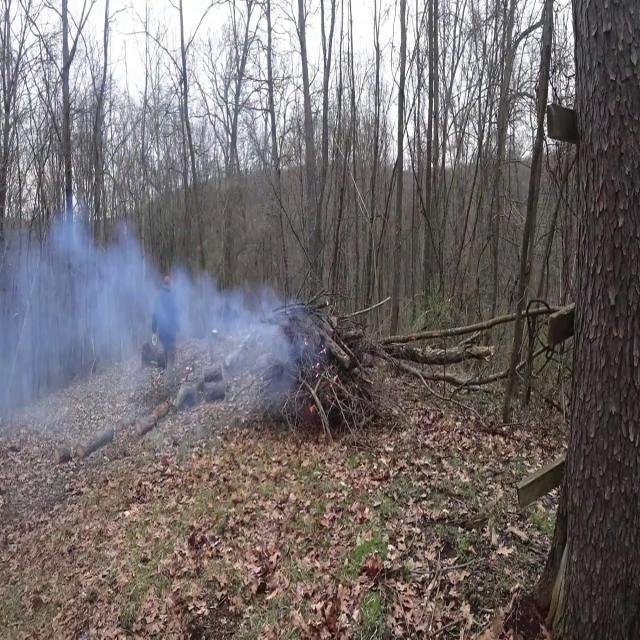Smoke: (0, 198, 314, 449), (0, 191, 188, 464)
